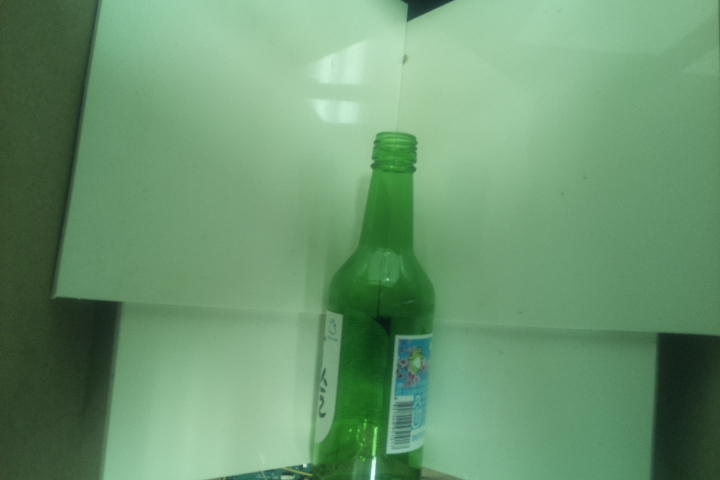soju: (309, 130, 439, 480)
